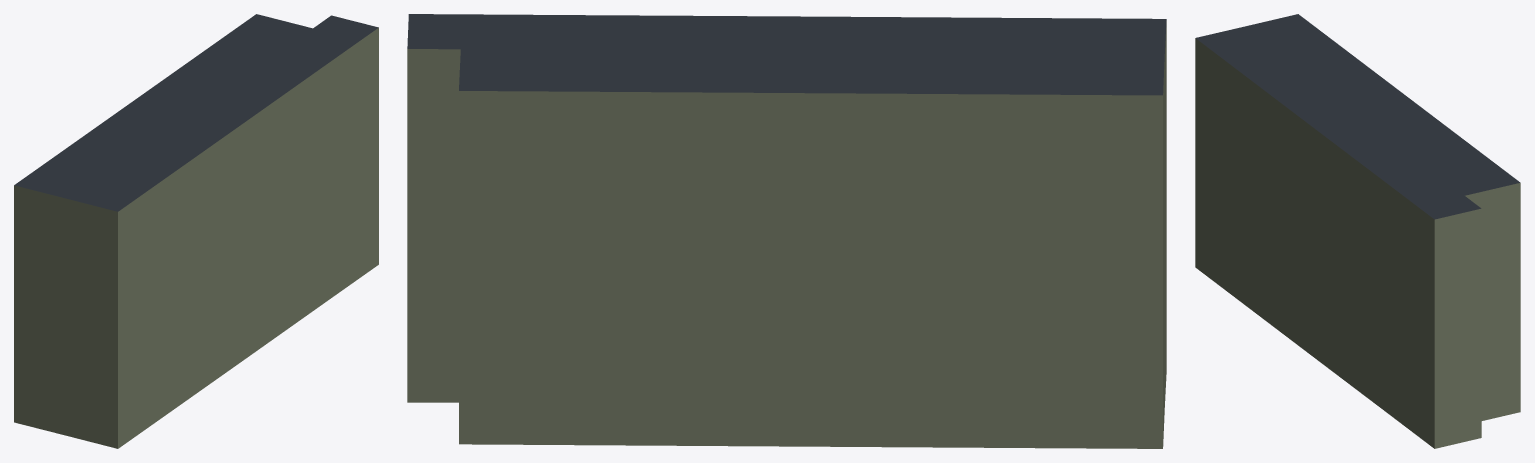
Rendered from nyc-1034355-0.glb.
3 renders of one model, left to right at view 1: azimuth 30°, elevation 25°; view 2: azimuth 150°, elevation 25°; view 3: azimuth 270°, elevation 25°, orthographic. The views are drawn at different scales.
Visible parts, largest first — view 1: nyc-1034355-0; view 2: nyc-1034355-0; view 3: nyc-1034355-0.
Part boxes in pixels (x1,y1,x2,y2): nyc-1034355-0: (14,14,378,448); nyc-1034355-0: (407,14,1166,448); nyc-1034355-0: (1195,14,1520,448).
Size of the model in its own units: 29.29 by 15.24 by 19.59.
